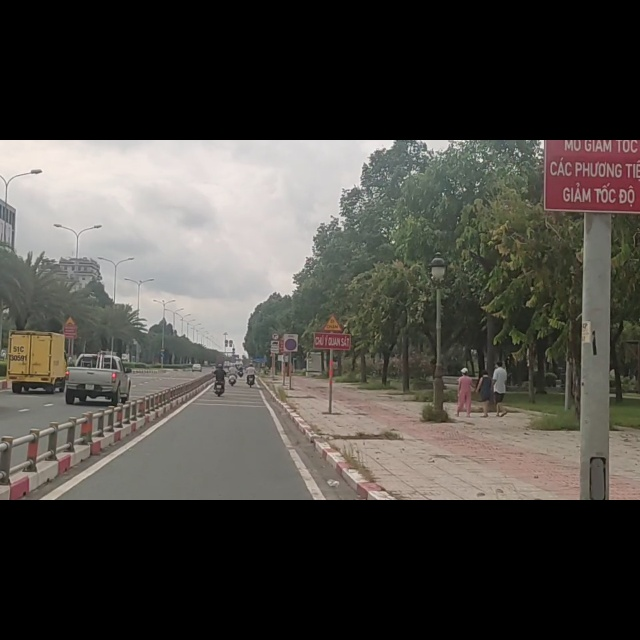bien_cam: (321, 308, 344, 343), (283, 344, 300, 376), (271, 341, 280, 357)
